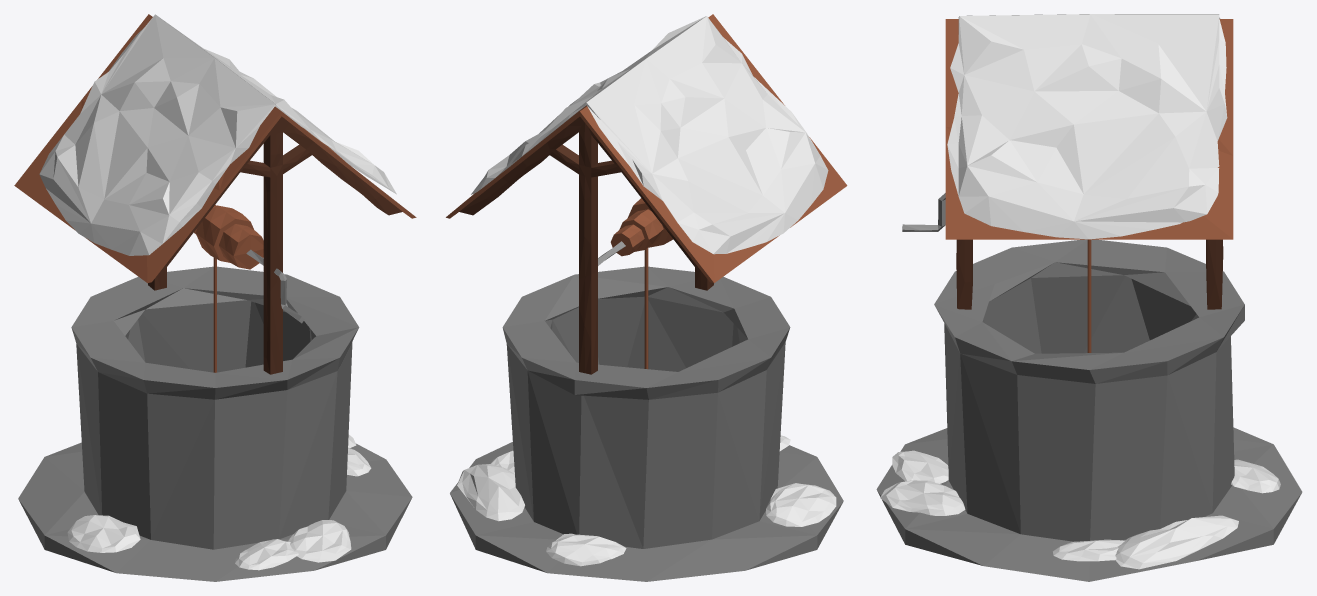
File: well.fbx
3 views of the same model, side by side, from view 1: azimuth 30°, elevation 25°; view 2: azimuth 150°, elevation 25°; view 3: azimuth 270°, elevation 25° (orthographic). The views are drawn at different scales.
Parts seen in each view (by area): view 1: Cylinder, Plane.001, Cube, Plane, Cylinder.007, Cylinder.008, Cylinder.002, Cylinder.001, Cylinder.009, Cube.002; view 2: Cylinder, Plane.001, Cube, Plane, Cylinder.010, Cylinder.007, Cylinder.006, Cylinder.003, Cylinder.004, Cylinder.005; view 3: Cylinder, Plane.001, Plane, Cylinder.010, Cube, Cylinder.008, Cylinder.009, Cylinder.011, Cylinder.006, Cylinder.005.
Part boxes in pixels (bbox=[...]): Cylinder: bbox=[18, 266, 412, 581]; Plane.001: bbox=[39, 14, 396, 255]; Cube: bbox=[148, 116, 402, 374]; Plane: bbox=[14, 14, 416, 283]; Cylinder.007: bbox=[67, 515, 140, 552]; Cylinder.008: bbox=[288, 520, 351, 562]; Cylinder.002: bbox=[195, 205, 253, 262]; Cylinder.001: bbox=[219, 224, 263, 269]; Cylinder.009: bbox=[235, 539, 298, 570]; Cube.002: bbox=[246, 249, 304, 323]; Cylinder: bbox=[450, 266, 843, 581]; Plane.001: bbox=[471, 16, 828, 254]; Cube: bbox=[459, 116, 713, 374]; Plane: bbox=[446, 14, 847, 282]; Cylinder.010: bbox=[457, 464, 524, 521]; Cylinder.007: bbox=[766, 483, 836, 526]; Cylinder.006: bbox=[546, 533, 626, 566]; Cylinder.003: bbox=[619, 209, 663, 251]; Cylinder.004: bbox=[610, 224, 644, 256]; Cylinder.005: bbox=[644, 247, 648, 369]; Cylinder: bbox=[876, 239, 1302, 581]; Plane.001: bbox=[947, 14, 1227, 239]; Plane: bbox=[945, 19, 1233, 239]; Cylinder.010: bbox=[1115, 515, 1238, 569]; Cube: bbox=[956, 239, 1223, 309]; Cylinder.008: bbox=[880, 480, 965, 515]; Cylinder.009: bbox=[892, 450, 948, 483]; Cylinder.011: bbox=[1053, 539, 1124, 561]; Cylinder.006: bbox=[1231, 459, 1280, 493]; Cylinder.005: bbox=[1087, 239, 1091, 352].
Bounding box in the file's own units: 301 × 378 × 301.
